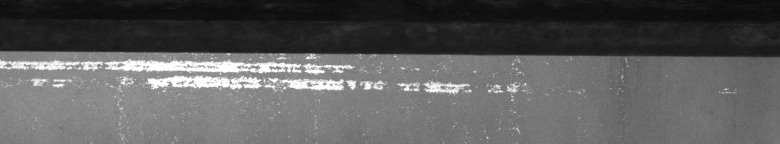kb: (4, 24, 776, 134)
